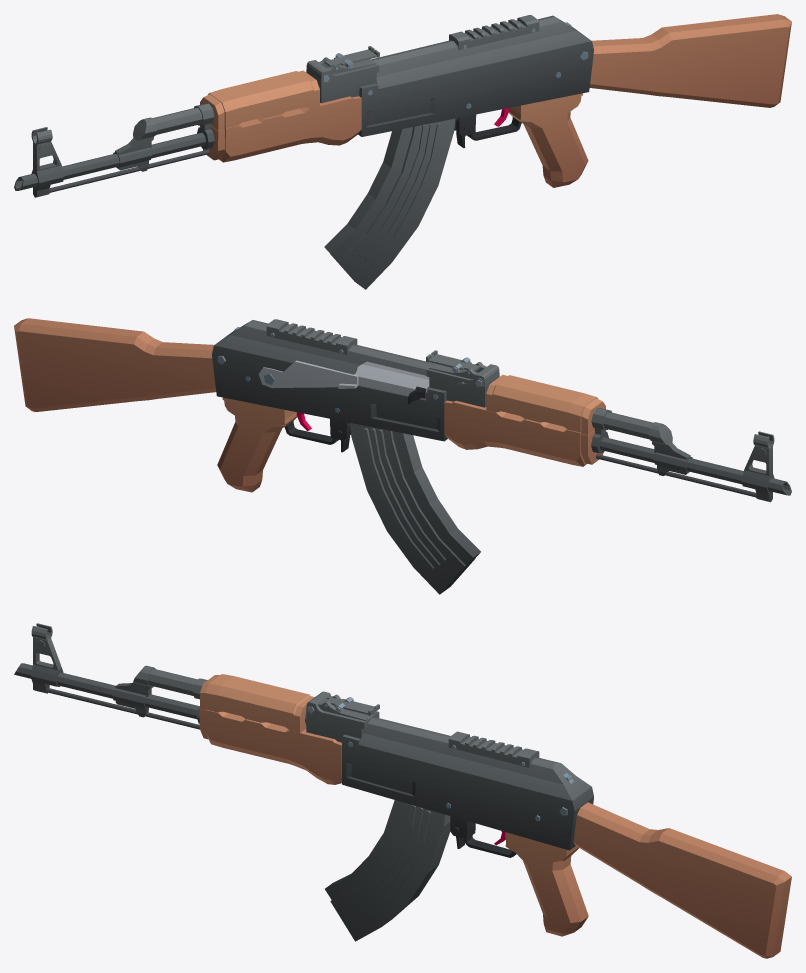
The picture shows the model from 3 angles, top to bottom: view 1: azimuth 30°, elevation 25°; view 2: azimuth 150°, elevation 25°; view 3: azimuth 330°, elevation 25°; orthographic projection.
Visible parts, largest first — view 1: AK-47; view 2: AK-47; view 3: AK-47.
Part boxes in pixels (x1,y1,x2,y2): AK-47: (14, 14, 791, 289); AK-47: (14, 318, 791, 594); AK-47: (14, 623, 791, 958).
Bounding box in the file's own units: 250 × 72.32 × 16.85.
